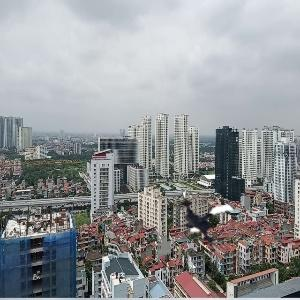drone: (173, 184, 247, 258)
